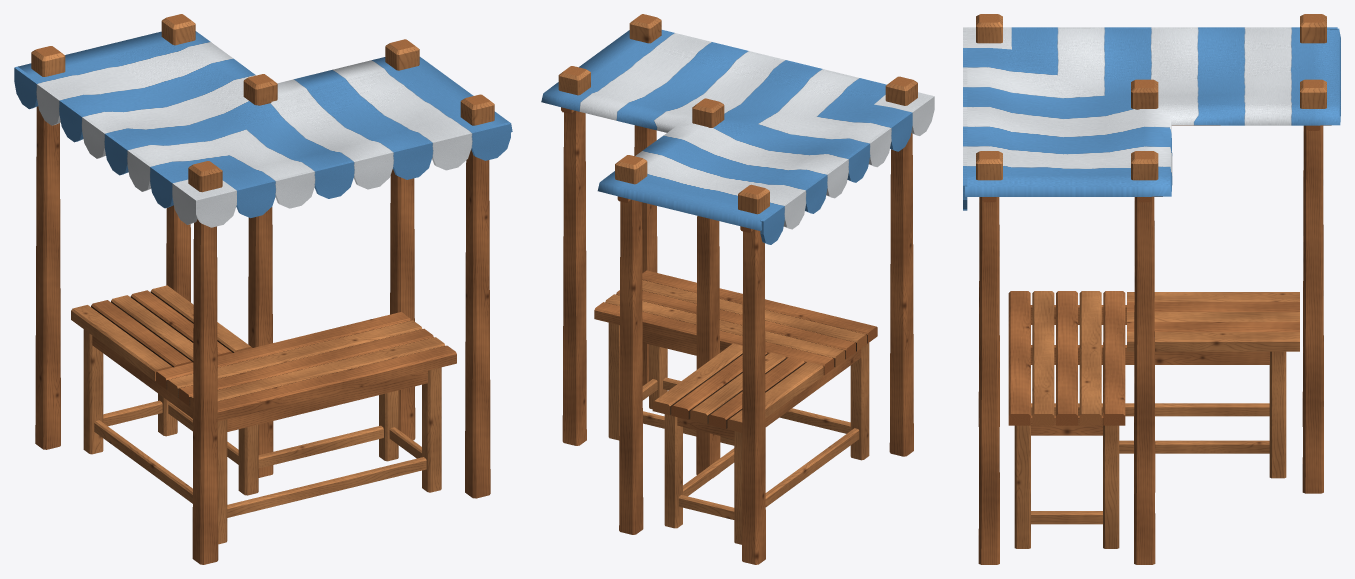
Rendered from FMS_Stall_Table_Corner_Canopy.fbx.
3 views of the same model, side by side, from view 1: azimuth 30°, elevation 25°; view 2: azimuth 150°, elevation 25°; view 3: azimuth 270°, elevation 25° (orthographic). The views are drawn at different scales.
Parts seen in each view (by area): view 1: item_stalls_table_corner_canopy; view 2: item_stalls_table_corner_canopy; view 3: item_stalls_table_corner_canopy.
Part boxes in pixels (x1,y1,x2,y2): item_stalls_table_corner_canopy: (14,14,512,564); item_stalls_table_corner_canopy: (541,14,934,564); item_stalls_table_corner_canopy: (963,14,1340,564).
Bounding box in the file's own units: 1.95 × 2.31 × 1.95.
1 material, 1 textured.
